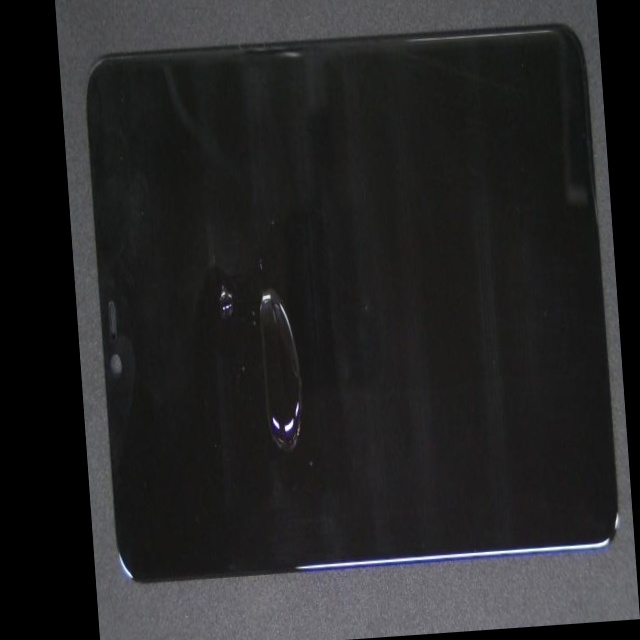oil: (184, 194, 415, 531)
